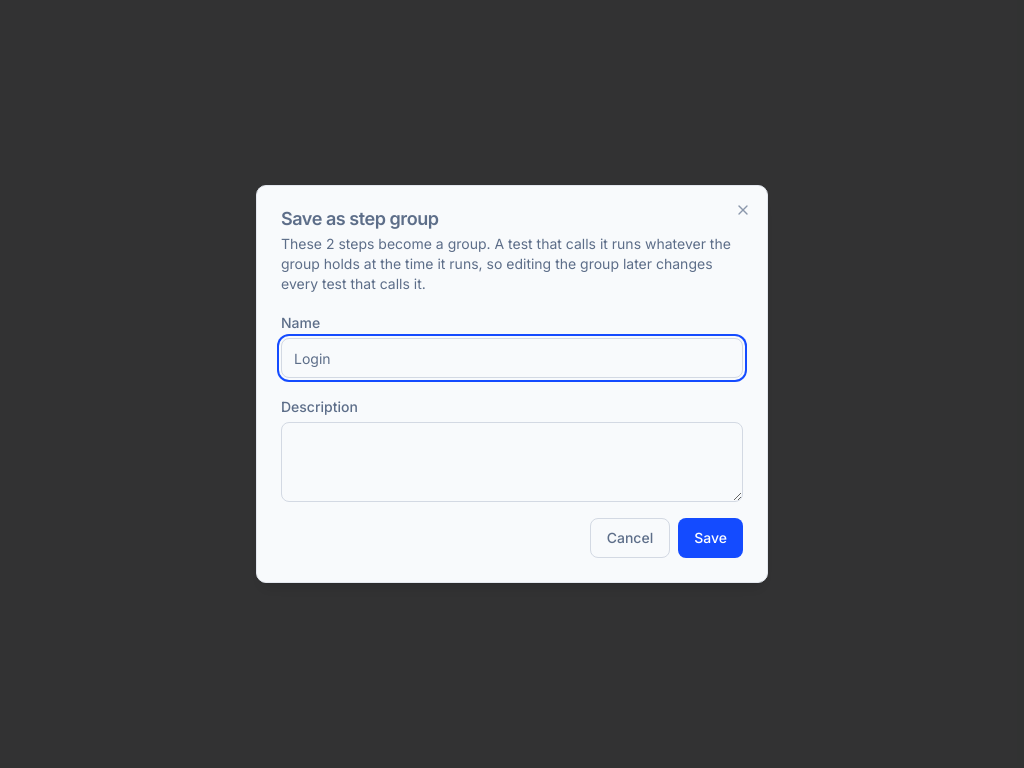
Test: SaveStepGroupModal › shows what the server refused and stays open
The image size is (1024, 768).
In the field labelled "Name": [512, 358] box [281,338,743,378], type "Outer"
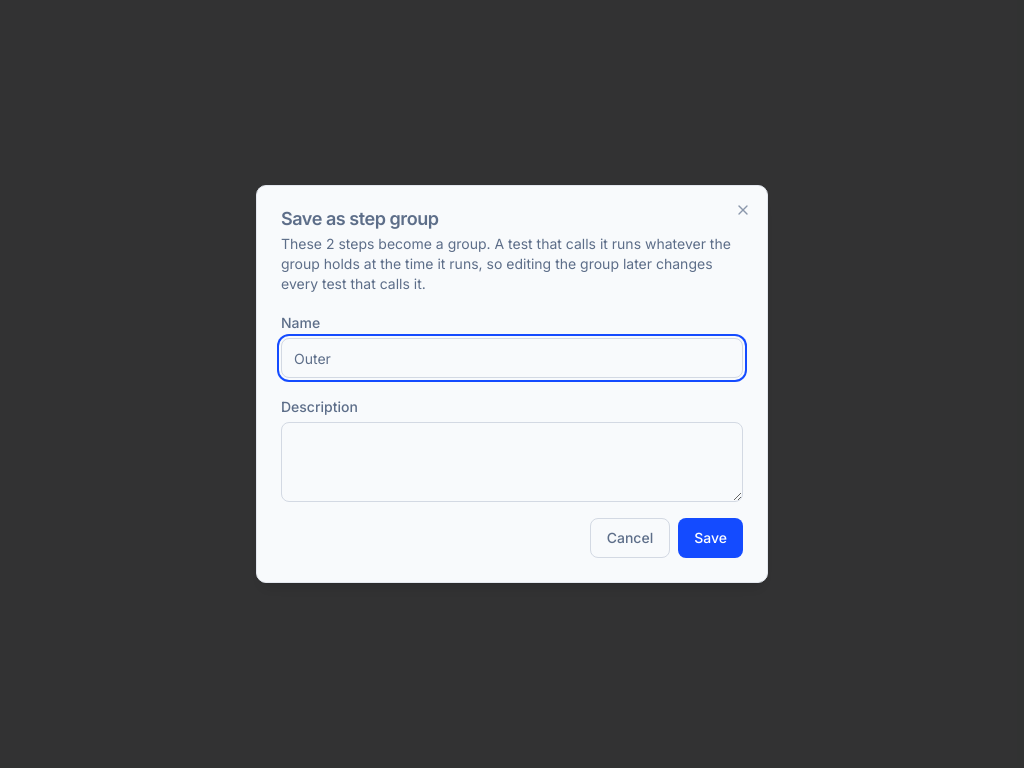
Click the button "Save": [711, 538] box [678,518,743,558]
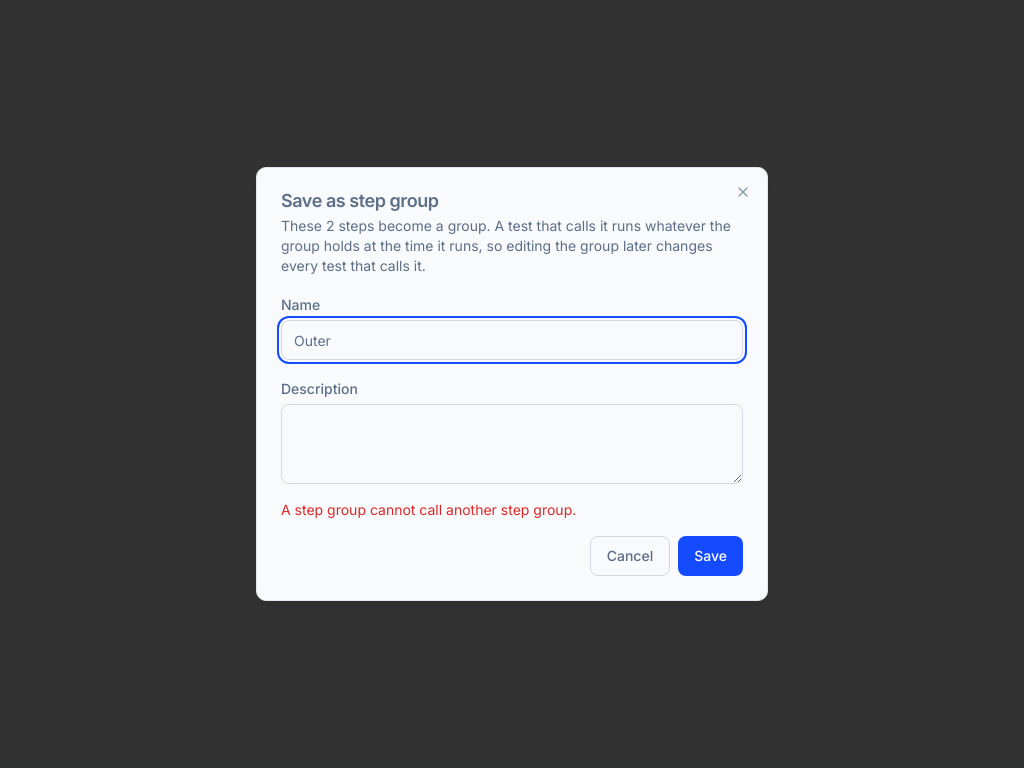
Check: the text "A step group cannot call another step group." is shown, box [281,501,576,518]
